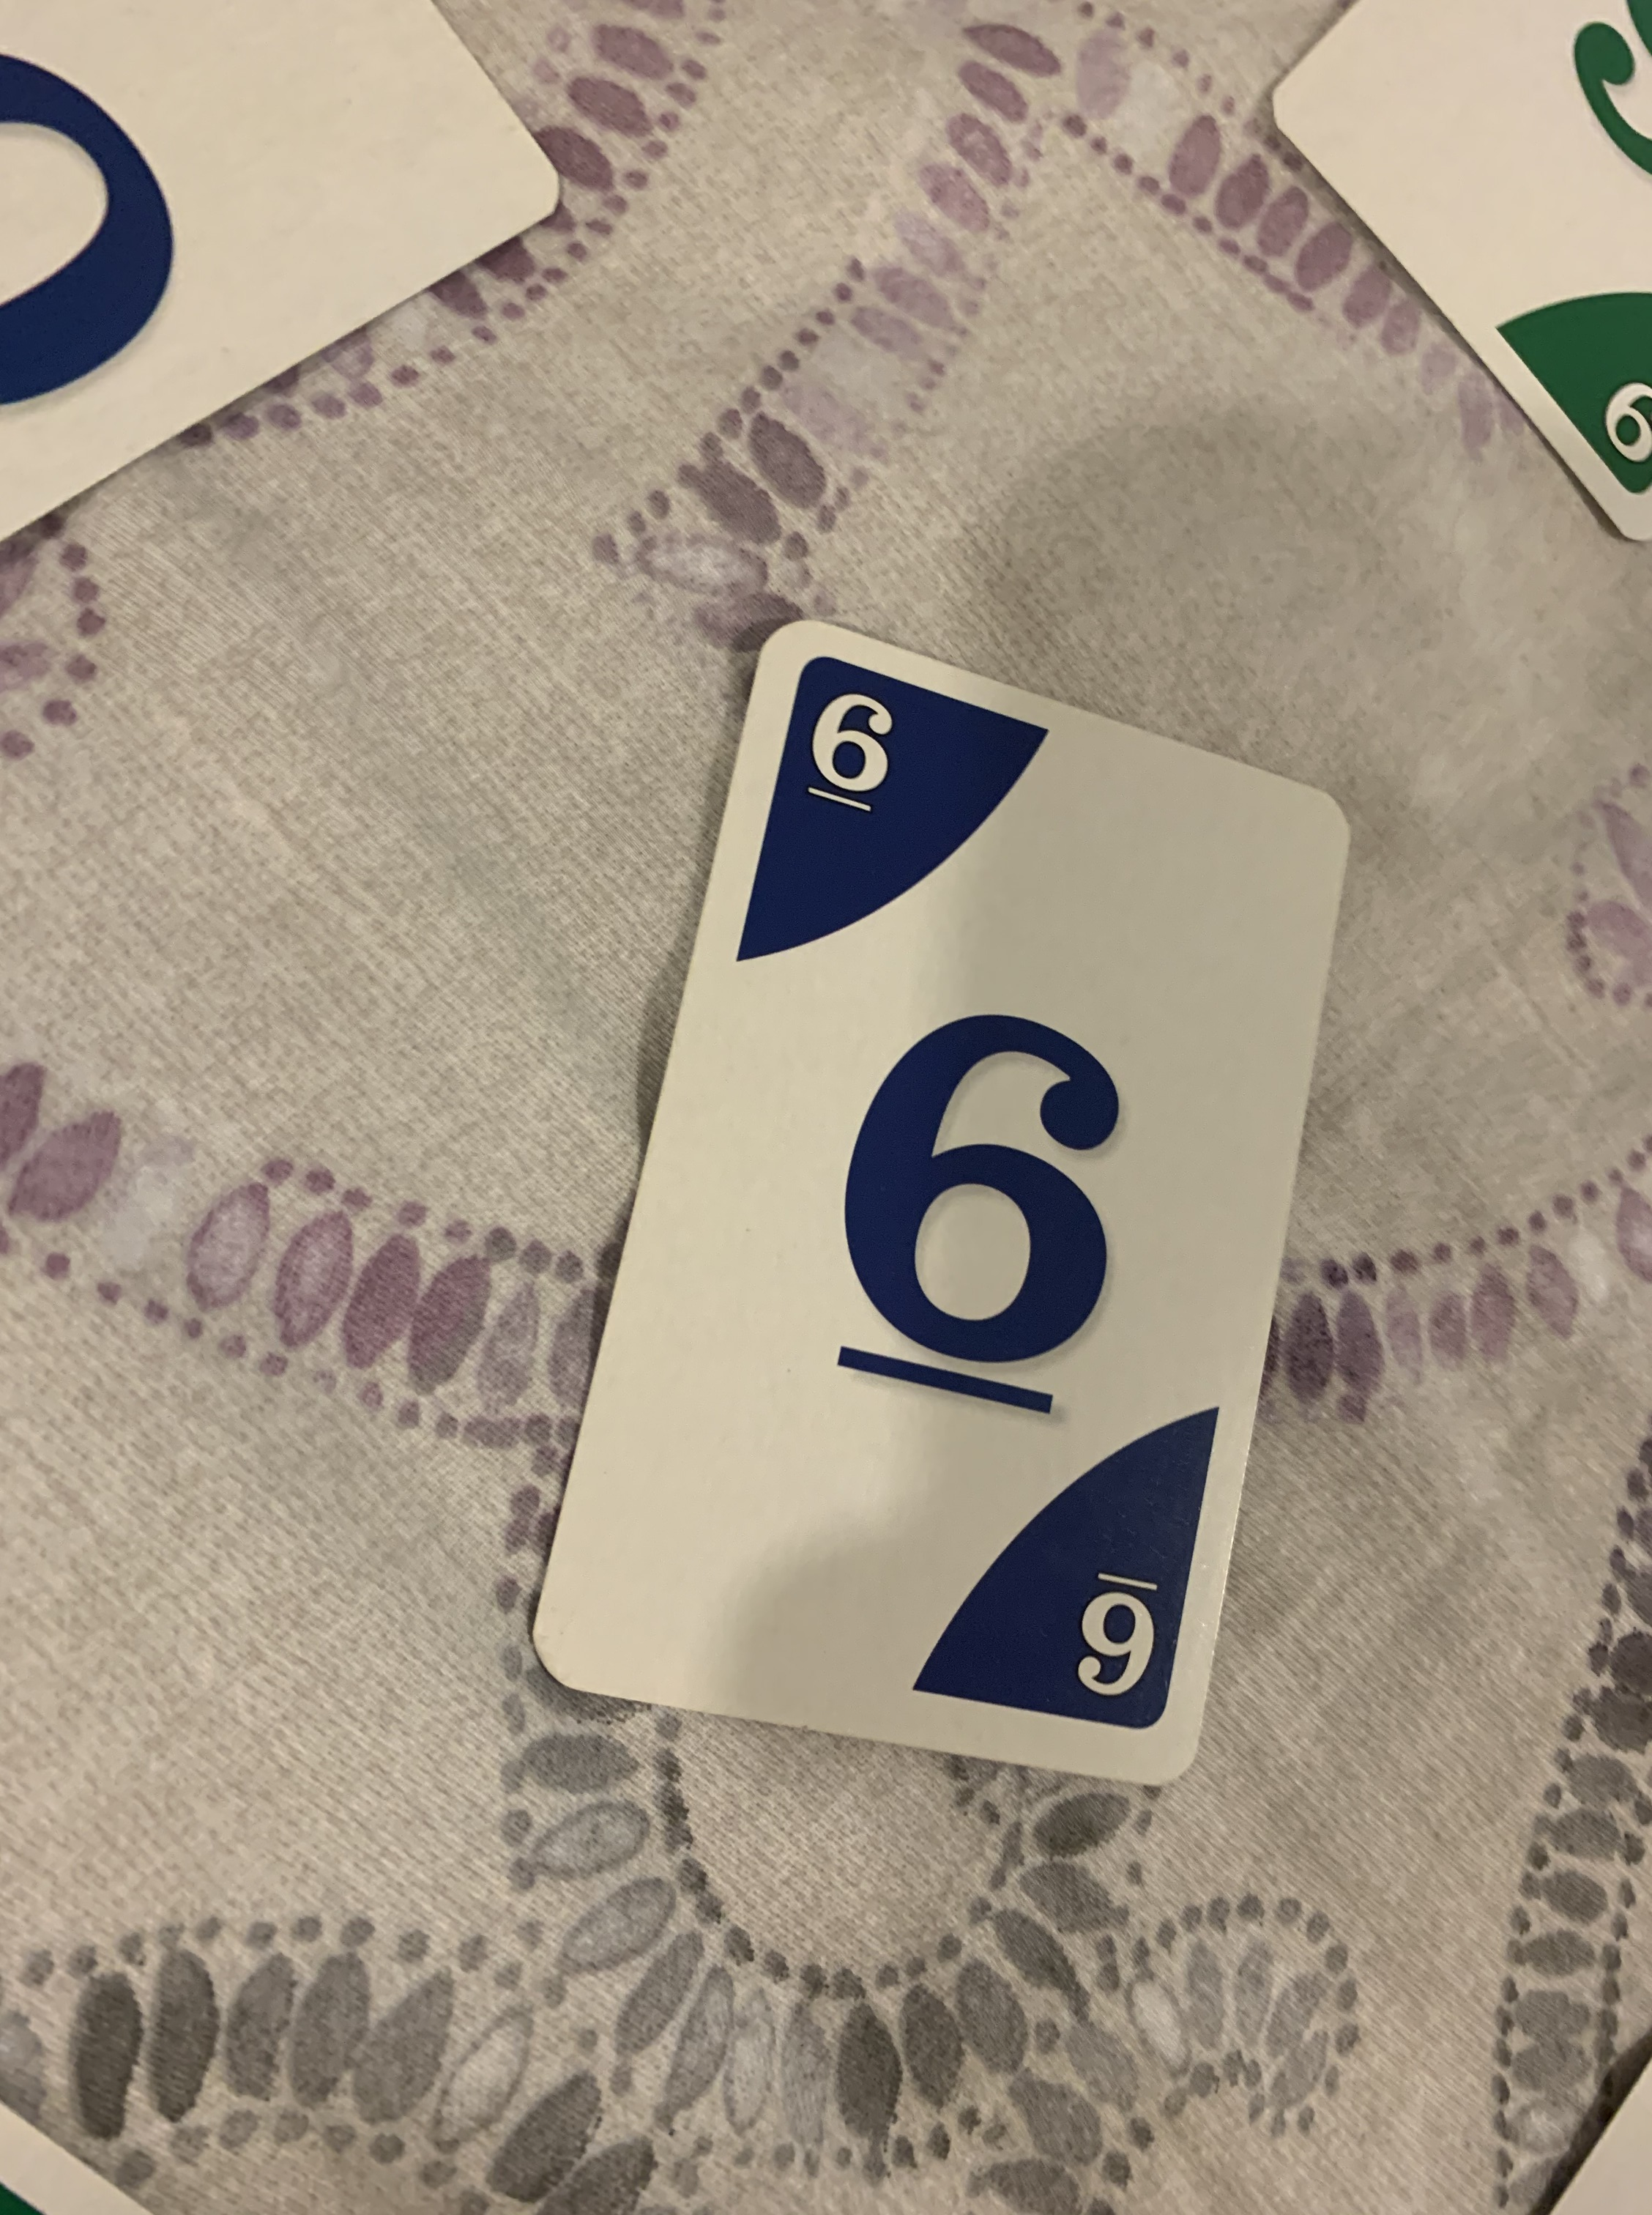six: (517, 609, 1364, 1788)
